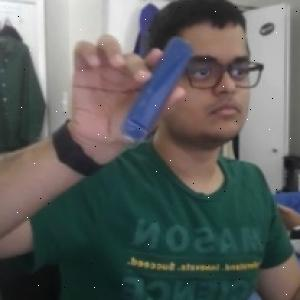Diamond-E-Ciggirate: (118, 36, 194, 146)
